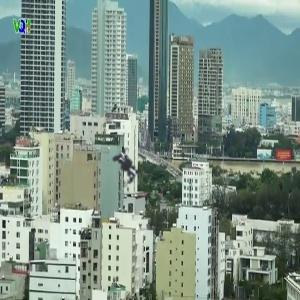drone: (81, 124, 171, 214)
